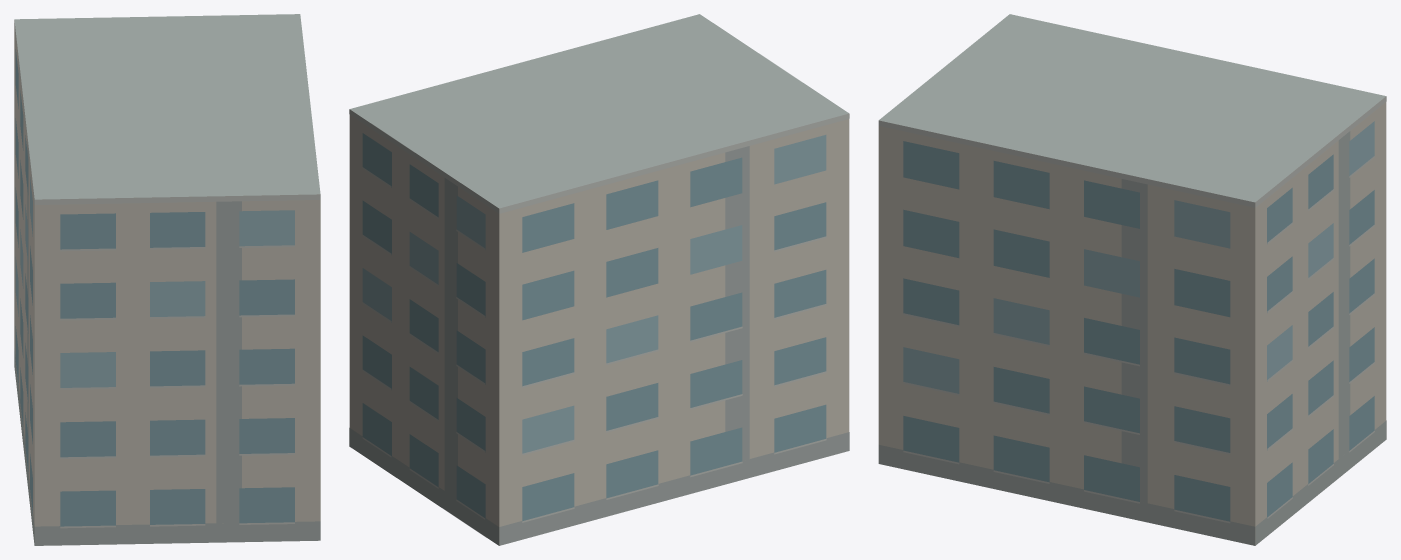
The model's file is survey-upis-32543143.glb.
3 renders of one model, left to right at view 1: azimuth 30°, elevation 25°; view 2: azimuth 150°, elevation 25°; view 3: azimuth 270°, elevation 25°, orthographic. The views are drawn at different scales.
Parts seen in each view (by area): view 1: survey-upis-32543143.tmp; view 2: survey-upis-32543143.tmp; view 3: survey-upis-32543143.tmp.
Boxes of the visible parts, x1,y1,x2,y2 form: survey-upis-32543143.tmp: (14,14,320,545); survey-upis-32543143.tmp: (349,14,849,545); survey-upis-32543143.tmp: (878,14,1386,545).
Size of the model in its own units: 18.13 by 15.4 by 20.65.
